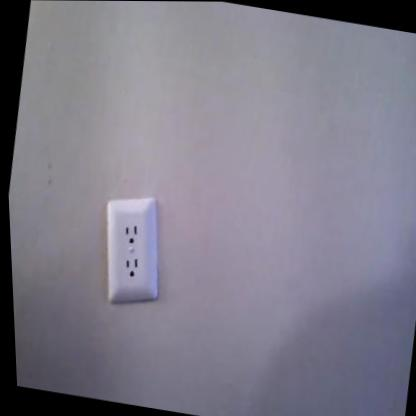OUTLET: (87, 191, 178, 314)
